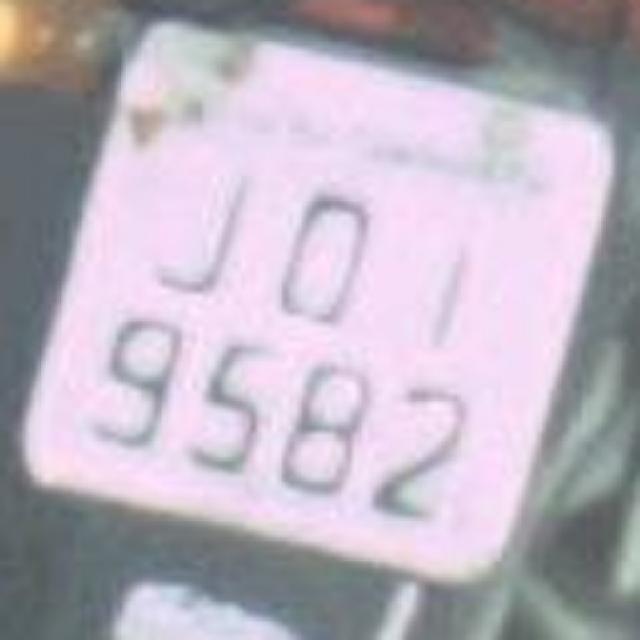2: (351, 340, 504, 552)
5: (169, 312, 296, 492)
8: (248, 316, 404, 512)
9: (72, 292, 208, 472)
J: (124, 149, 268, 316)
O: (252, 156, 396, 344)
